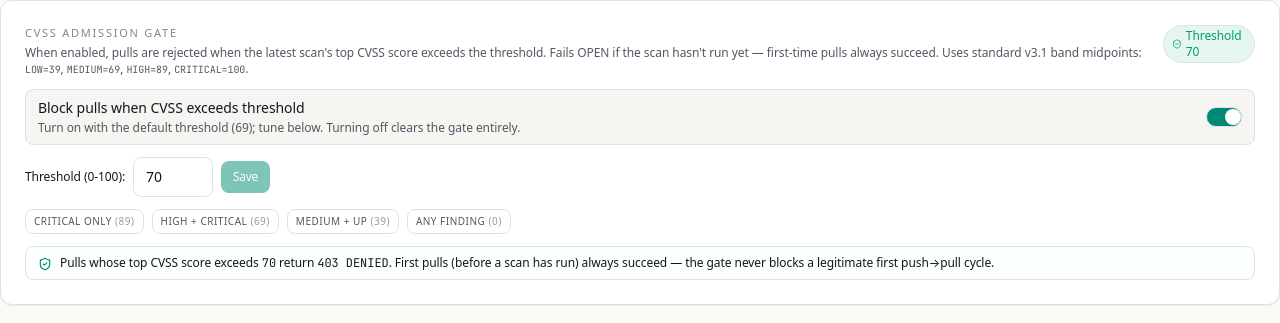
Test: RepoCVSSPolicySection › clicking a preset updates the number input
The width and height of the screenshot is (1280, 323).
Step 1. Click the button "CRITICAL only (89)" → (84, 221), box left=25, top=209, right=144, bottom=234
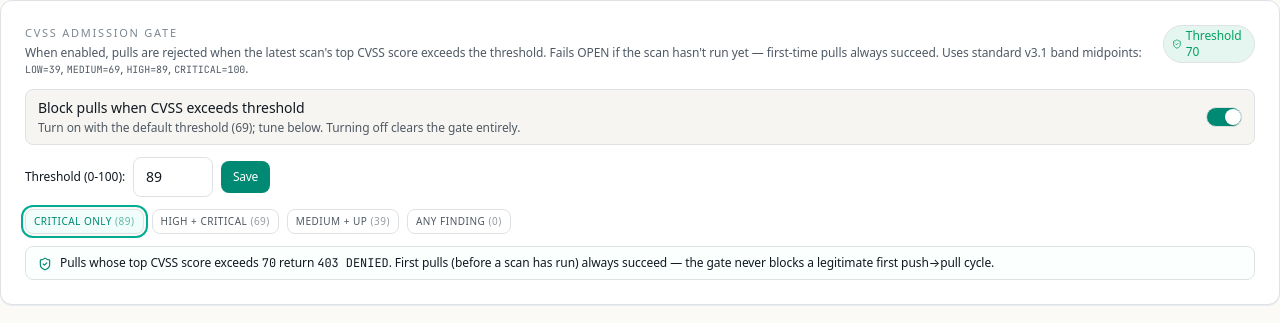
Result: the number field holds "89" at left=133, top=157, right=213, bottom=197
